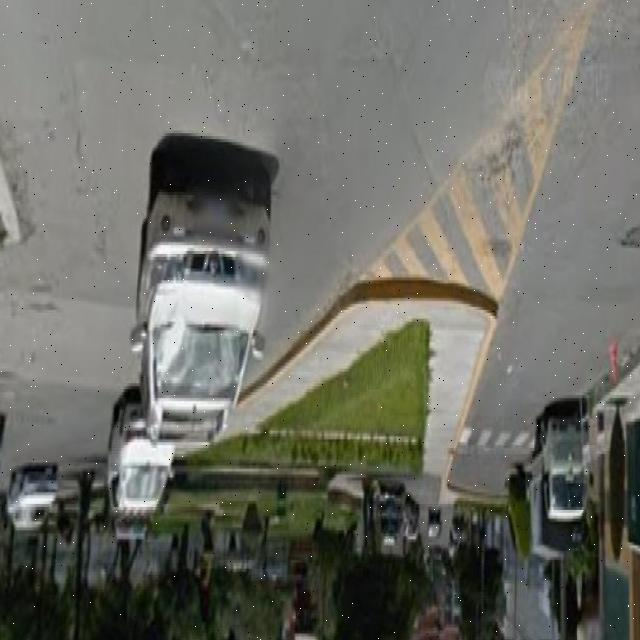car: (134, 163, 278, 440), (99, 405, 182, 531), (5, 474, 58, 544)
